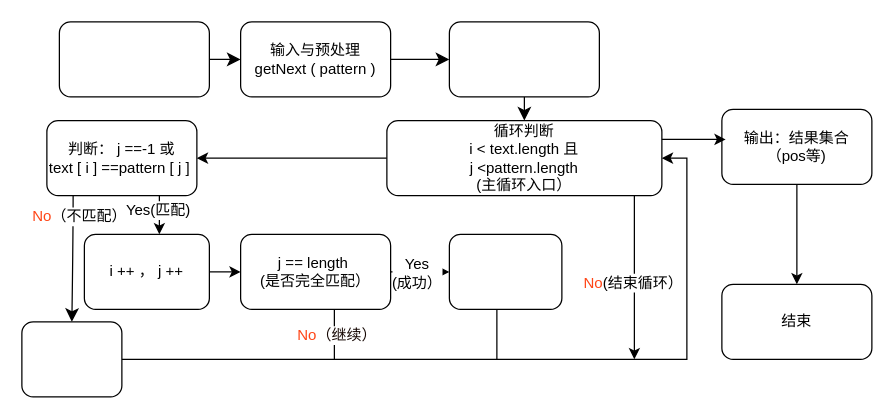
This 894x419 diagram has some shape labels left out. The shapes that lost their labels are listed below. From the top down, each one's centre as x and y in pixels, then its label:
At (133,59): "开始".
At (523,59): "初始化 i=0， j = 0".
At (505,271): "记录 pos count ++ j = next [ j ]".
At (71,359): "j = next [ j ]".
